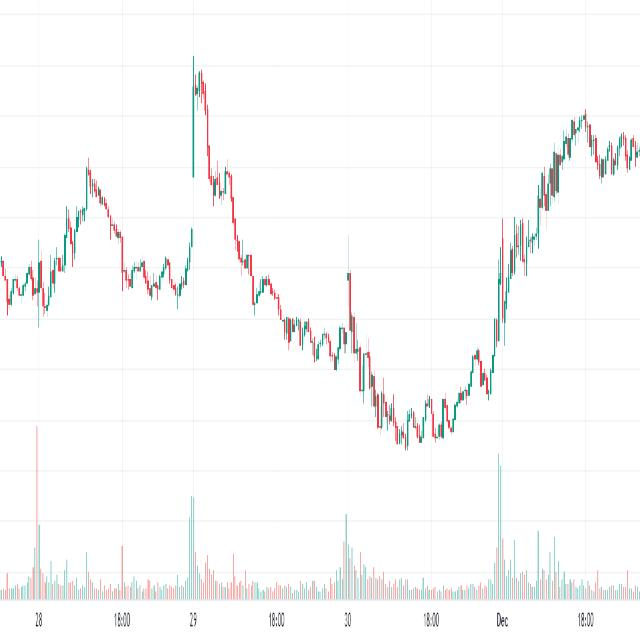Rounding-Bottom: (192, 43, 592, 474)
